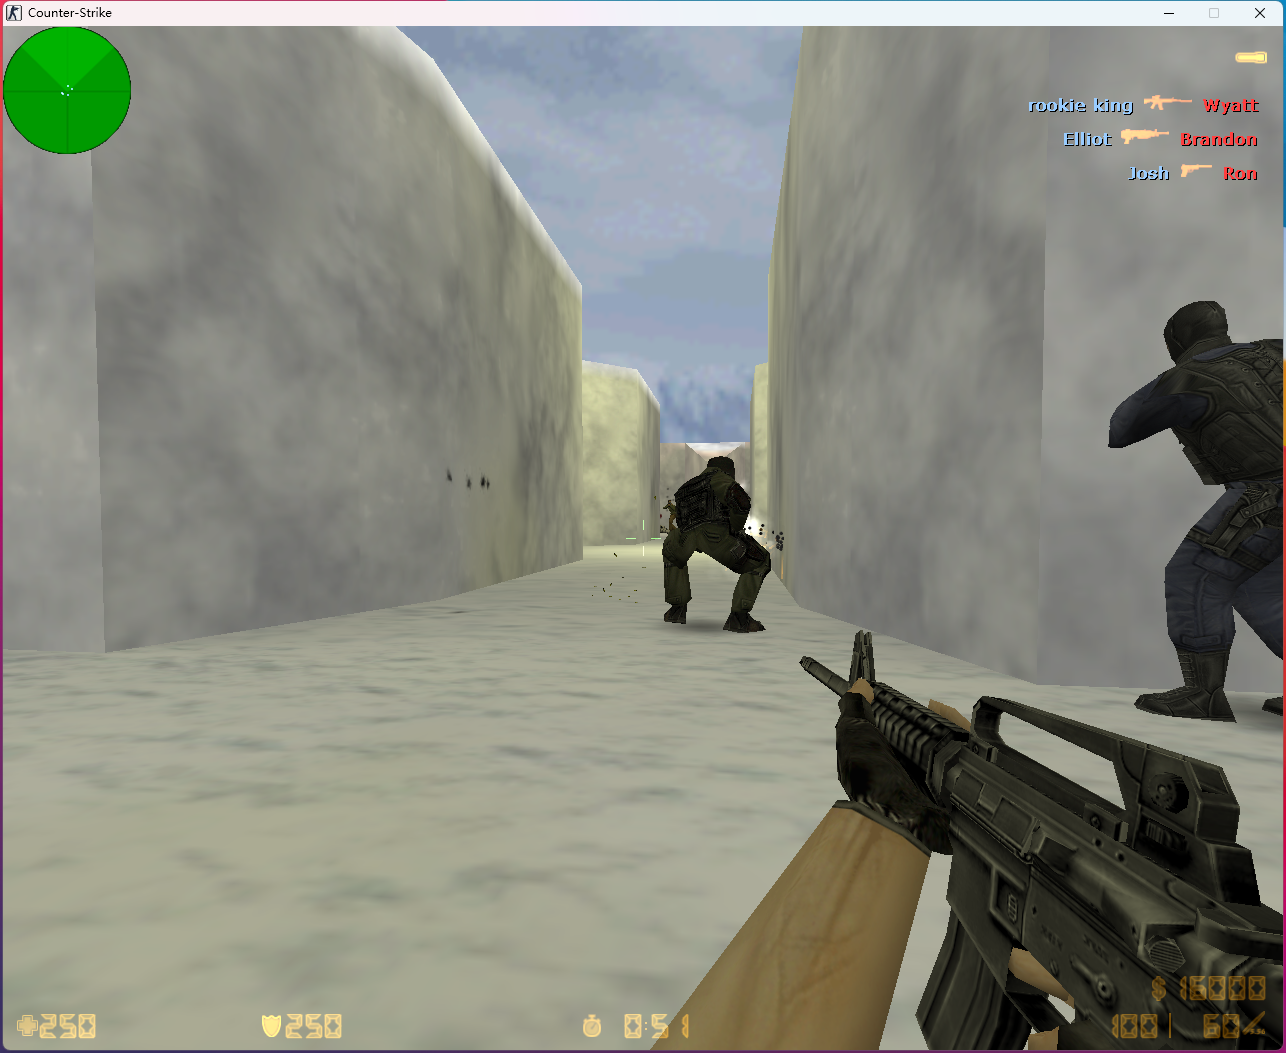C: (1098, 294, 1286, 727), (660, 456, 769, 635)
T: (662, 499, 675, 532)
